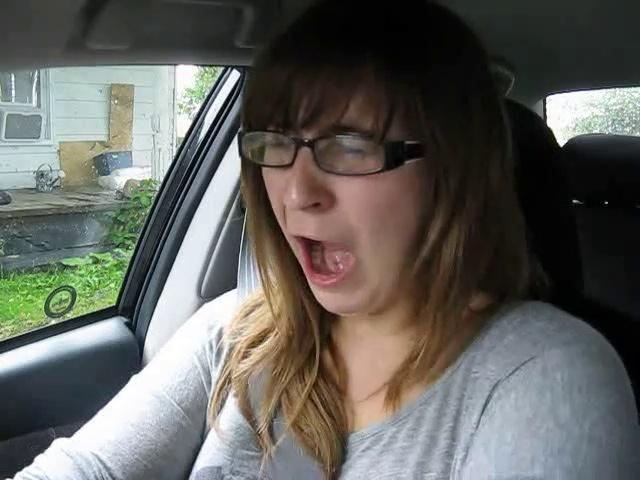close_eyeL: (247, 126, 307, 167)
close_eyeR: (313, 132, 391, 175)
yawn: (281, 225, 369, 290)
